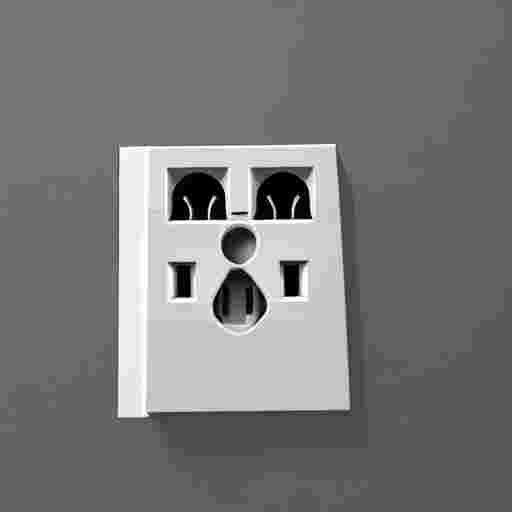power outlet: (115, 144, 349, 418)
